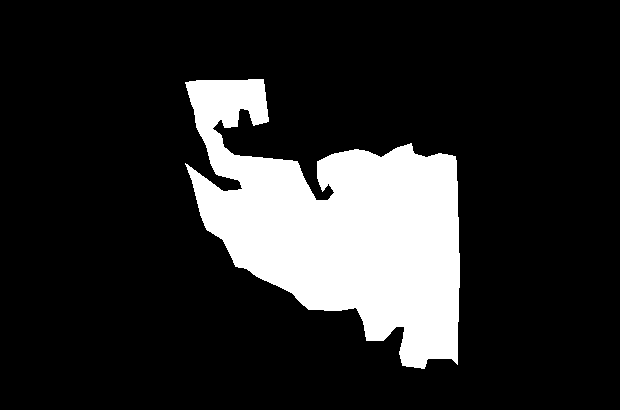type2: (179, 76, 460, 372)
